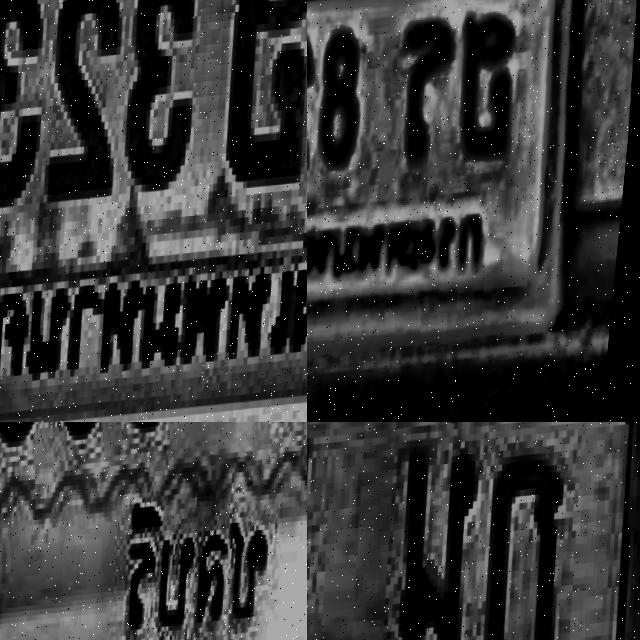license-plate: (307, 0, 625, 422), (0, 0, 307, 422), (307, 422, 640, 640), (0, 422, 307, 640)
